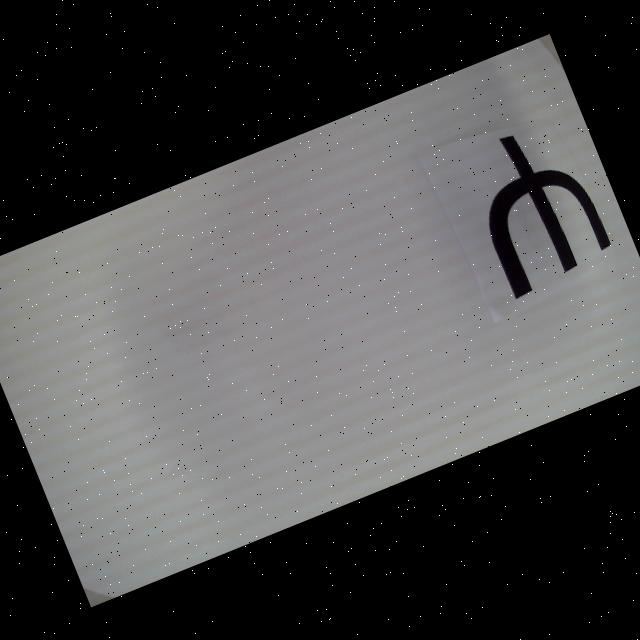PSI: (456, 114, 616, 299)
